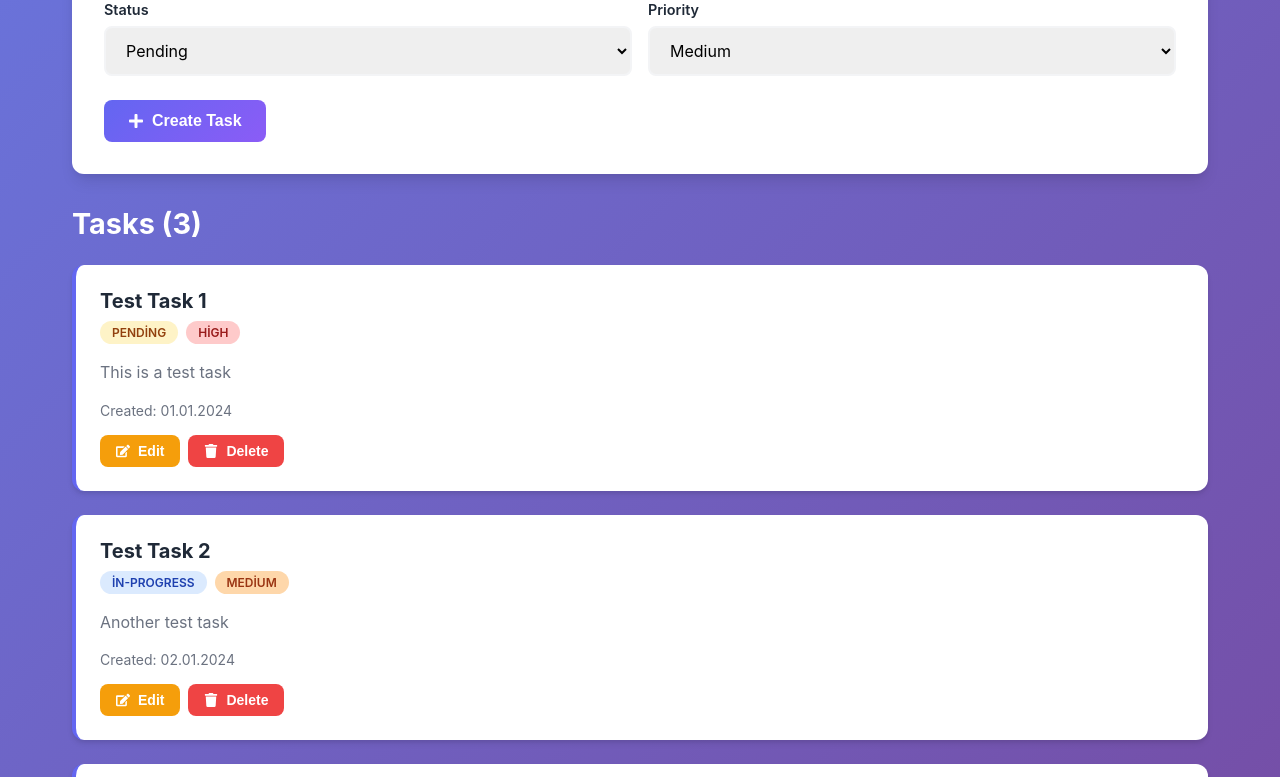
Test: App Component Tests › Edit Task Functionality › should show error when update fails
(page scrolled)
Click the button "Edit" below "01.01.2024" at (140, 451), box left=100, top=435, right=180, bottom=467
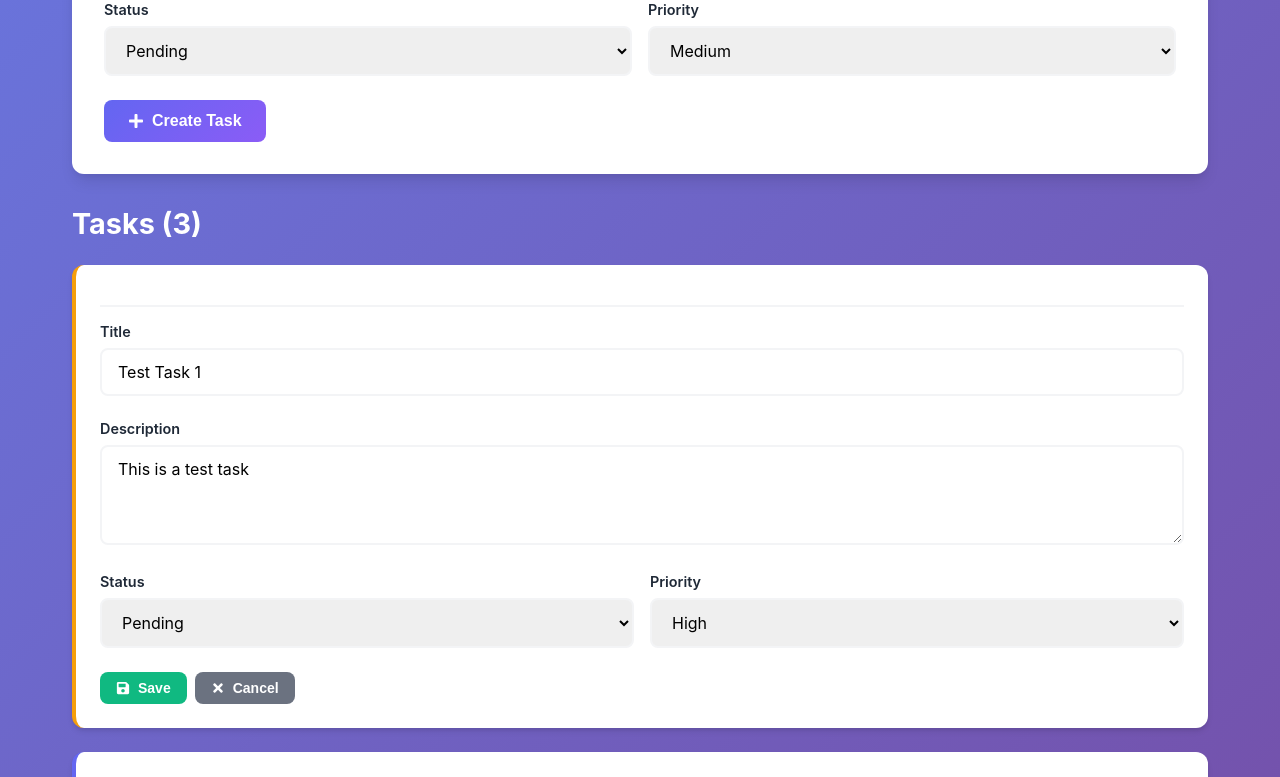
Check: the button "Save" is shown
Click the button "Save" at (143, 688), box left=100, top=672, right=187, bottom=704
(page scrolled)
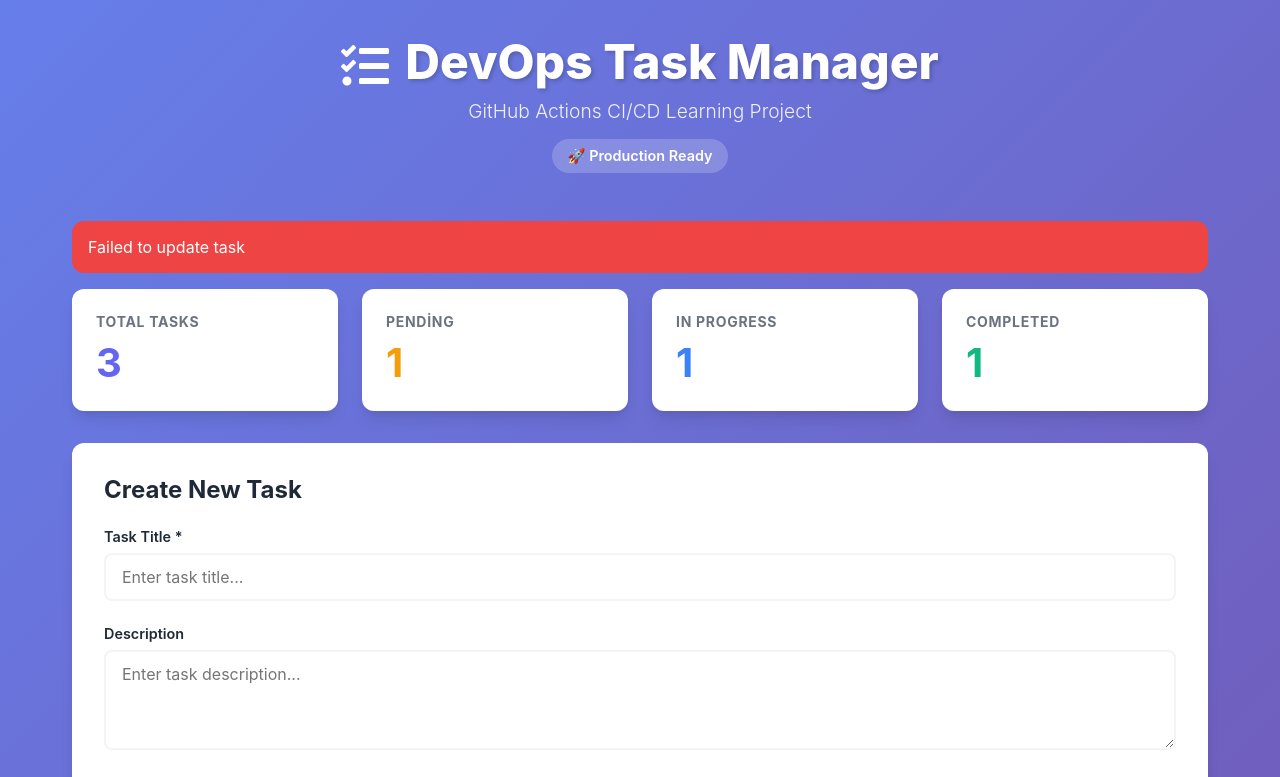
Check: the text "Failed to update task" is shown, box left=72, top=221, right=1208, bottom=273
